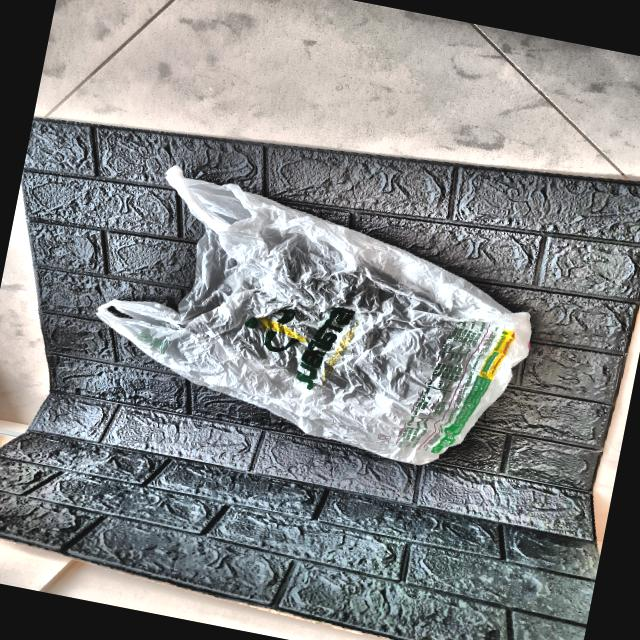plastic bag: (53, 144, 572, 496)
